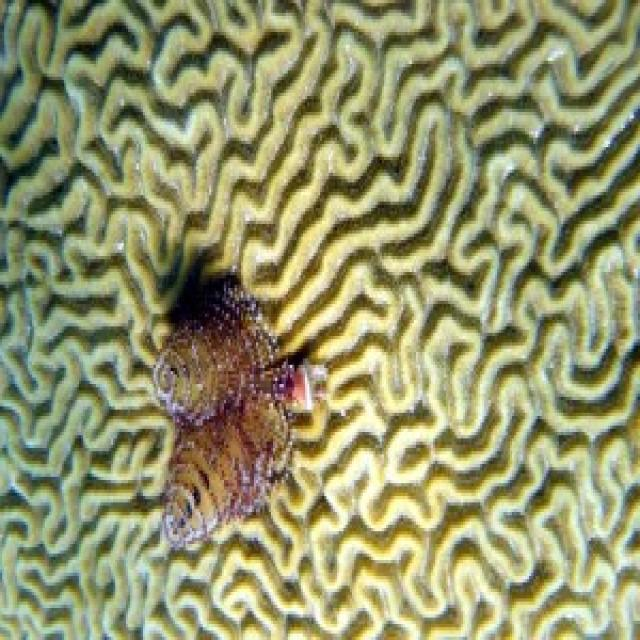Bleached: (1, 1, 640, 640)
